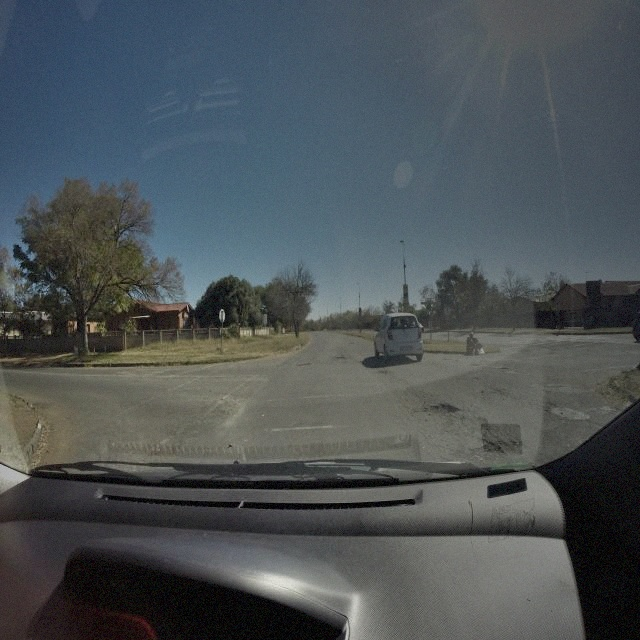pothole: (422, 399, 463, 418), (469, 436, 502, 458), (470, 415, 488, 426), (295, 362, 312, 366), (497, 365, 510, 370), (379, 369, 389, 374), (337, 355, 345, 361)
